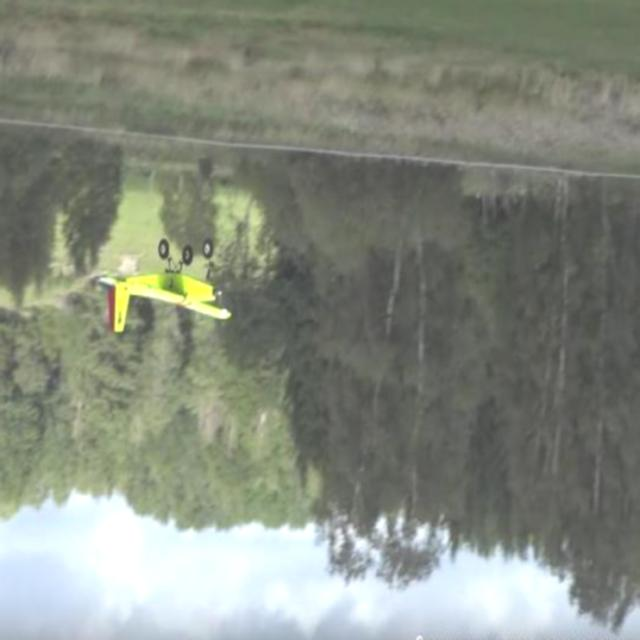plane: (94, 238, 233, 336)
